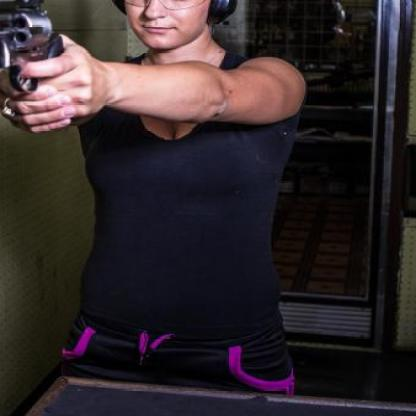gun: (0, 0, 70, 97)
